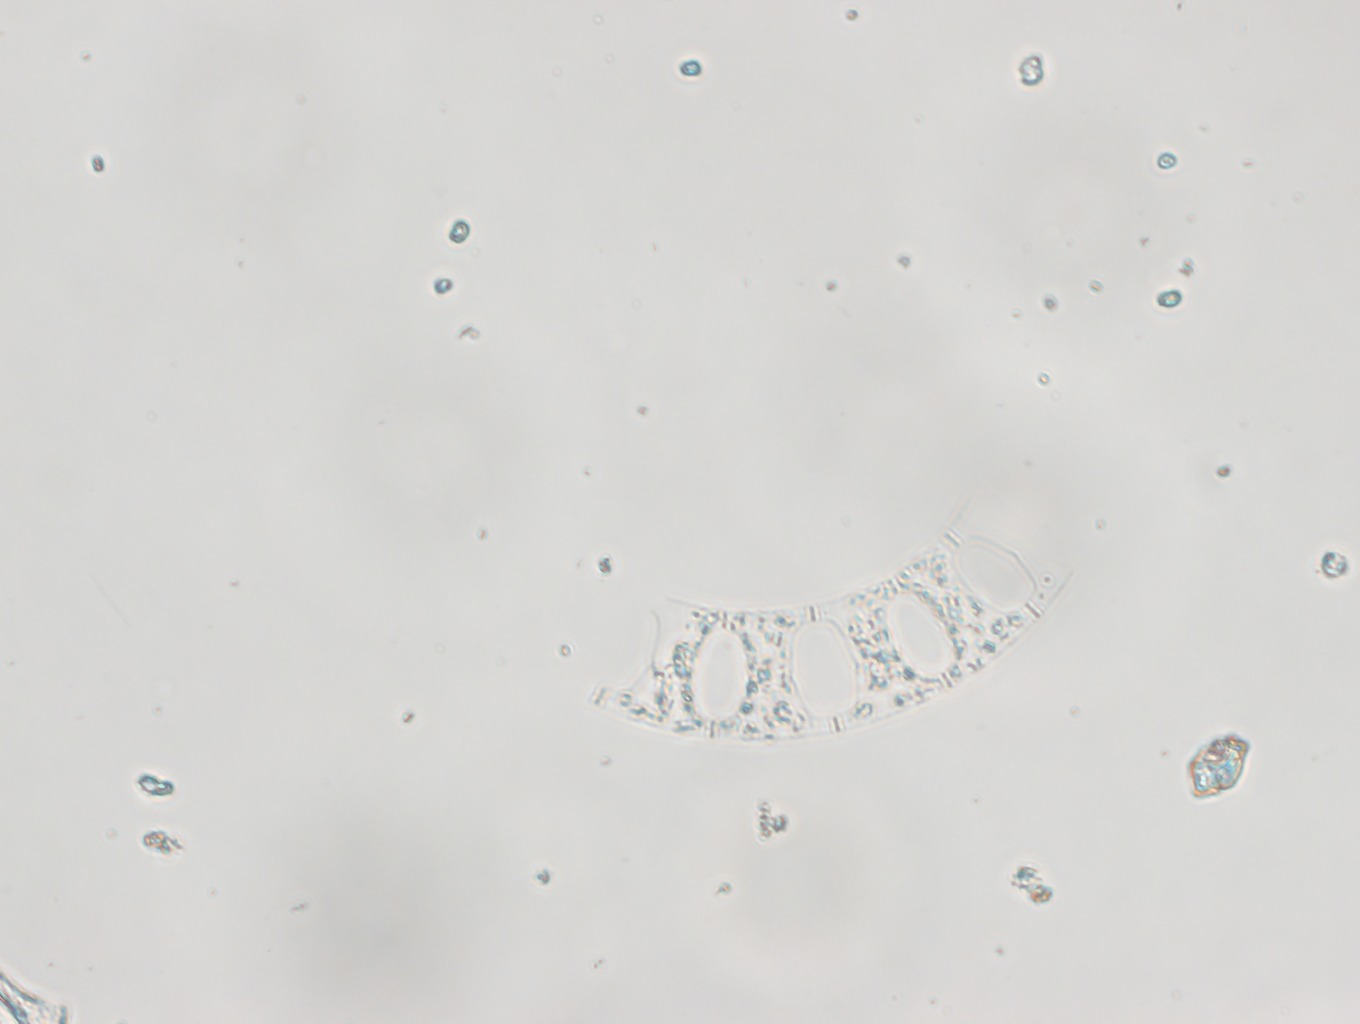eucampia: (593, 508, 1087, 749)
